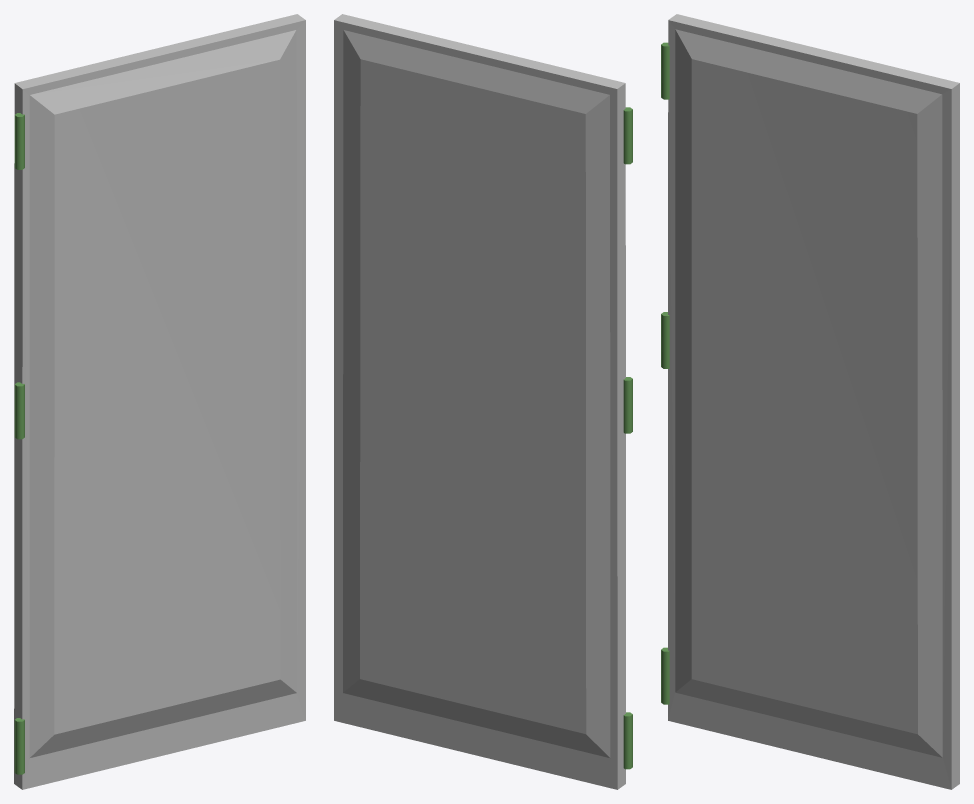
The model's file is SM_Door_Big_Right_A_01.FBX.
The picture shows the model from 3 angles, left to right: view 1: azimuth 30°, elevation 25°; view 2: azimuth 150°, elevation 25°; view 3: azimuth 330°, elevation 25°; orthographic projection.
Visible parts, largest first — view 1: SM_Door_Big_Right_A_01; view 2: SM_Door_Big_Right_A_01; view 3: SM_Door_Big_Right_A_01.
Boxes of the visible parts, x1,y1,x2,y2 form: SM_Door_Big_Right_A_01: (14, 14, 305, 789); SM_Door_Big_Right_A_01: (334, 14, 632, 789); SM_Door_Big_Right_A_01: (661, 14, 959, 789).
Bounding box in the file's own units: 365 × 35.38 × 844.
